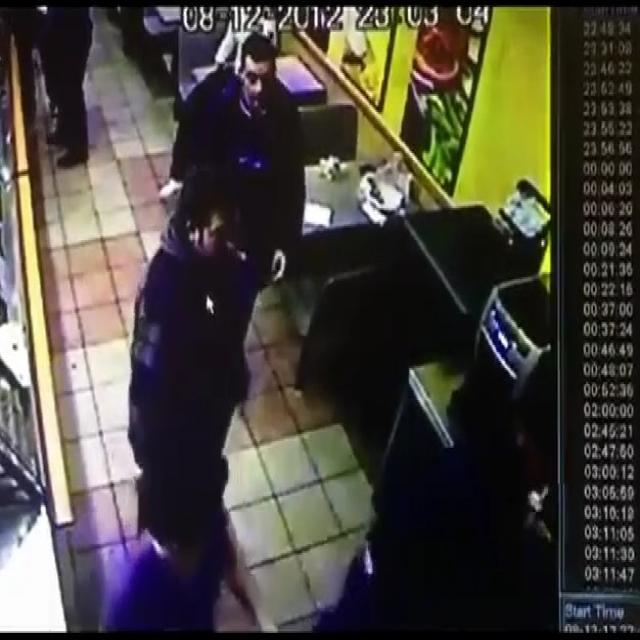fight: (152, 32, 294, 403)
